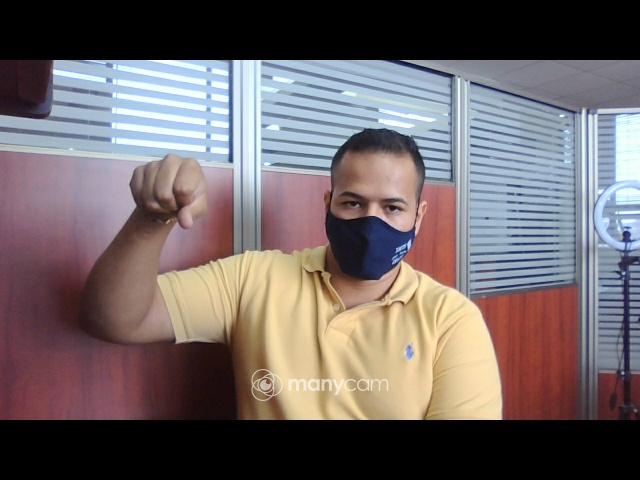Yes: (125, 151, 223, 234)
